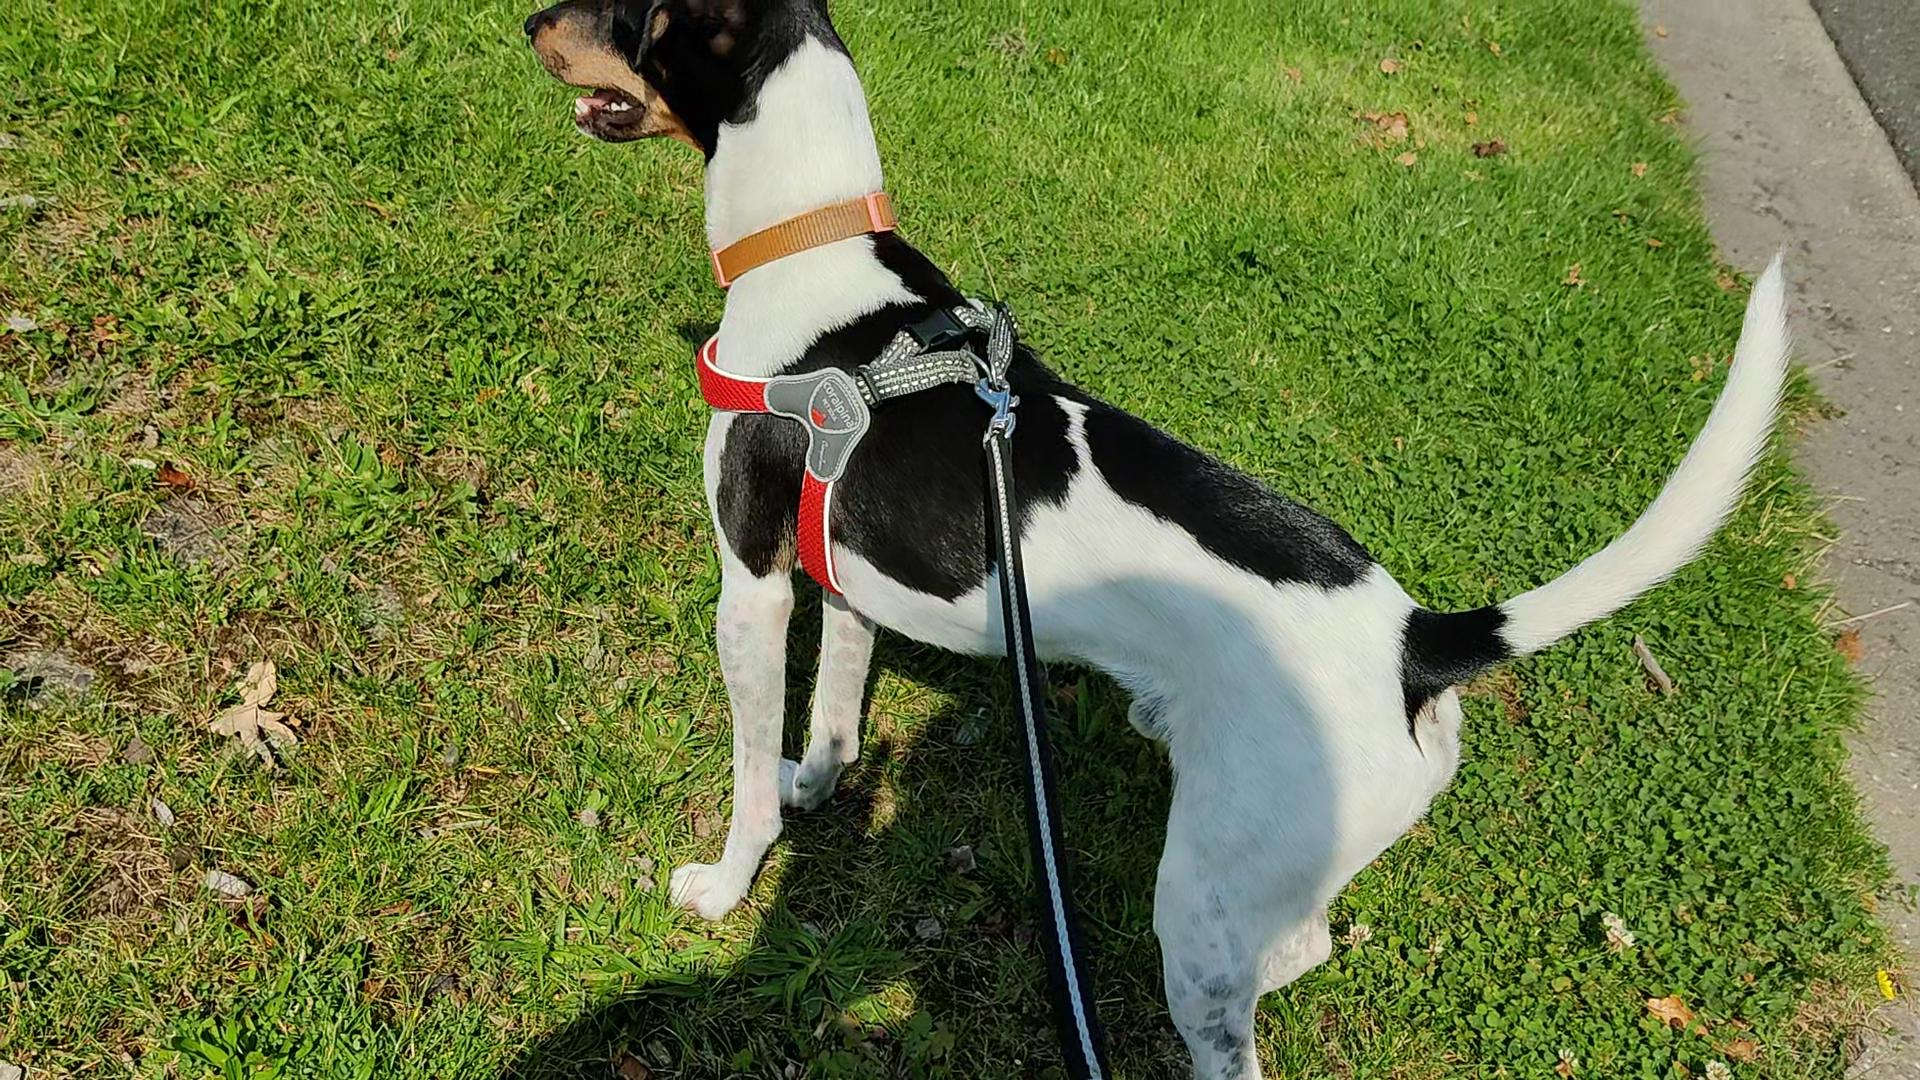Dog: (517, 0, 1793, 1079)
